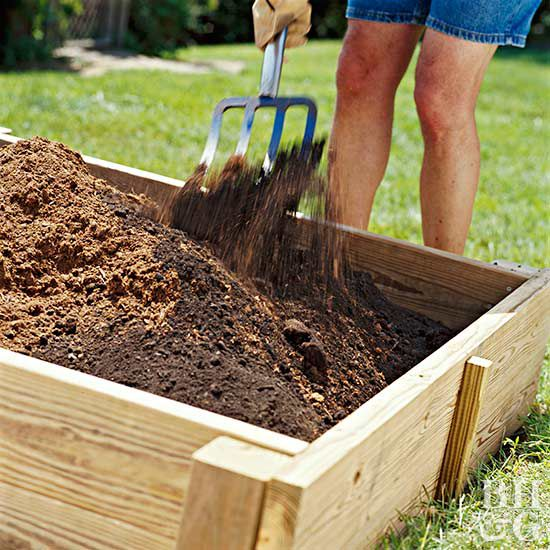dirt: (1, 141, 236, 376), (240, 258, 427, 437)
grass: (0, 70, 202, 172), (474, 57, 547, 265)
